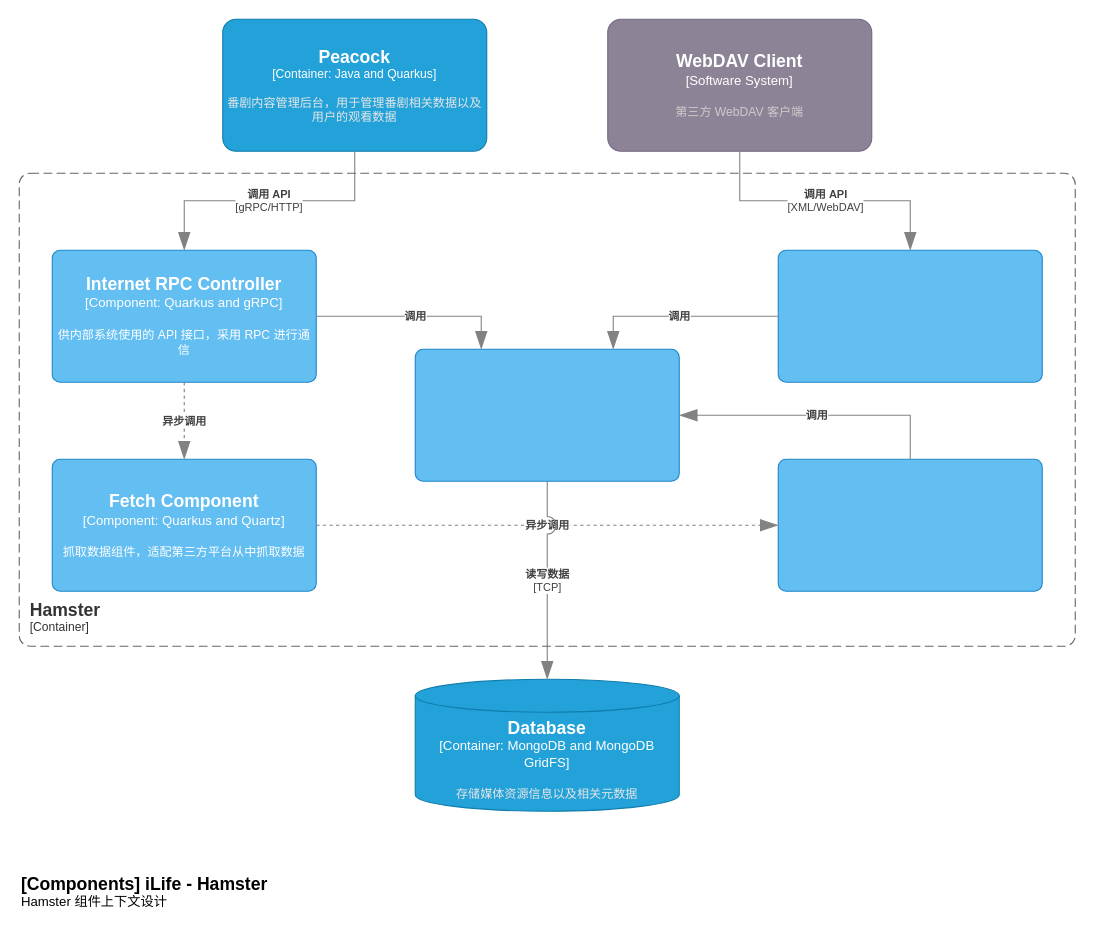
Some shapes in this 1095 by 931 pixel diagram are drawn without their labels. The centre of each missing label's shape, as x and y in pixels:
Data Process Controller [Component: Quarkus] 对从其他平台抓取的数据进行统一转码、处理: the point at 909,524
Media Source Component [Component: Quarkus] 媒体资源组件，管理存储的各种媒体资源: the point at 546,414
WebDAV Controller [Component: Quarkus and Dom4j] WebDAV 协议接口控制器: the point at 909,315
